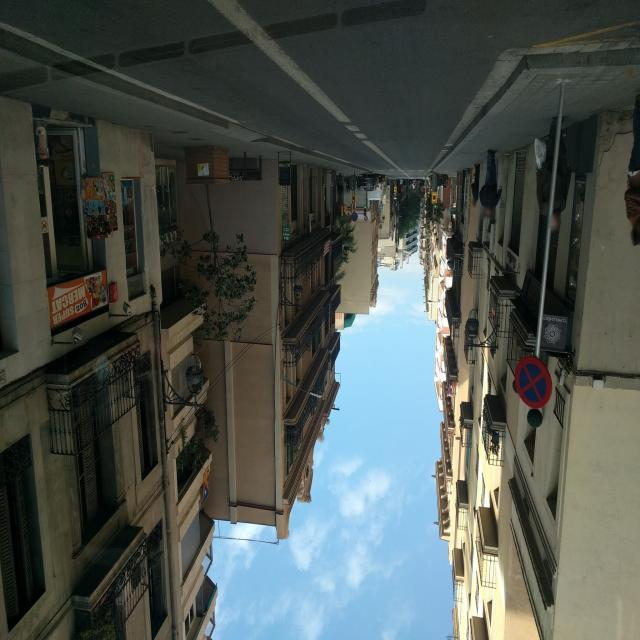forb_stopping: (282, 419, 288, 425)
